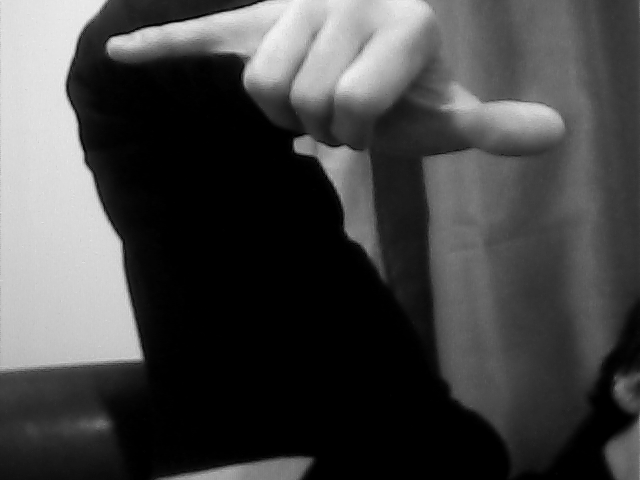aloha: (103, 1, 566, 159)
